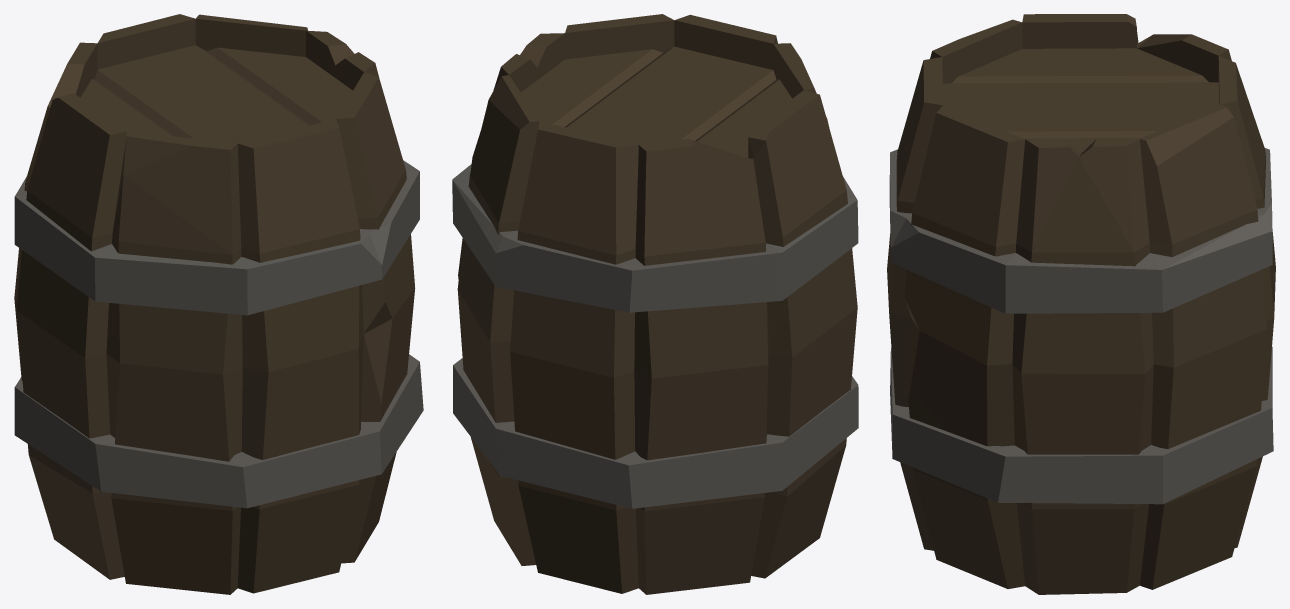
The model's file is castle_barrel.gltf.
The picture shows the model from 3 angles, left to right: view 1: azimuth 30°, elevation 25°; view 2: azimuth 150°, elevation 25°; view 3: azimuth 270°, elevation 25°; orthographic projection.
Parts seen in each view (by area): view 1: castle_barrel; view 2: castle_barrel; view 3: castle_barrel.
Boxes of the visible parts, x1=… form: castle_barrel: x1=14, y1=14, x2=423, y2=594; castle_barrel: x1=452, y1=14, x2=858, y2=594; castle_barrel: x1=887, y1=14, x2=1275, y2=594.
Size of the model in its own units: 0.7176 by 0.9098 by 0.7176.
Materials: 1 (1 with a texture image).
